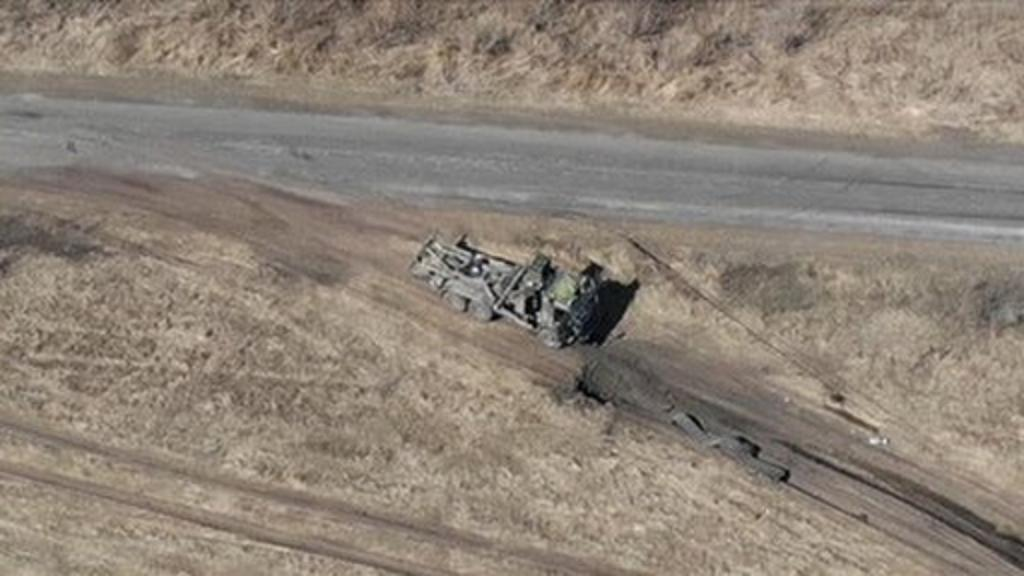TRUCK: (398, 218, 610, 354)
